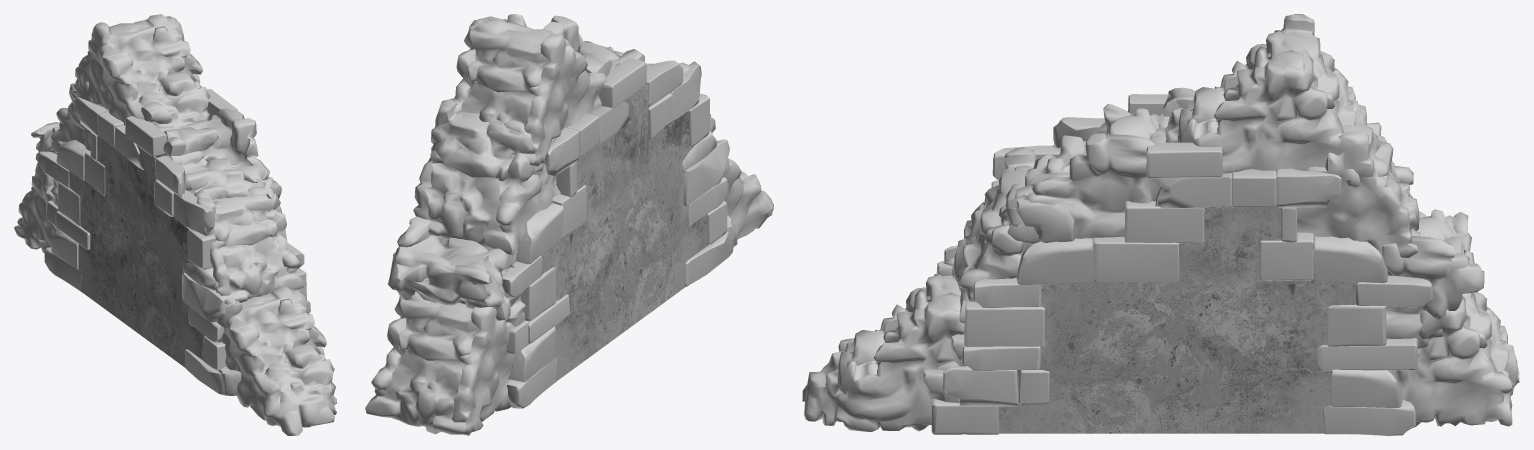
File: SM_Wall_8x8_Broken_01b.fbx
3 views of the same model, side by side, from view 1: azimuth 30°, elevation 25°; view 2: azimuth 150°, elevation 25°; view 3: azimuth 270°, elevation 25° (orthographic). The views are drawn at different scales.
Parts seen in each view (by area): view 1: SM_Wall_8x8_Broken_01b_LOD0; view 2: SM_Wall_8x8_Broken_01b_LOD0; view 3: SM_Wall_8x8_Broken_01b_LOD0.
Boxes of the visible parts, bbox=[...] form: SM_Wall_8x8_Broken_01b_LOD0: bbox=[14, 14, 336, 435]; SM_Wall_8x8_Broken_01b_LOD0: bbox=[365, 14, 773, 435]; SM_Wall_8x8_Broken_01b_LOD0: bbox=[802, 14, 1519, 435].
Size of the model in its own units: 230 by 1018 by 591.
